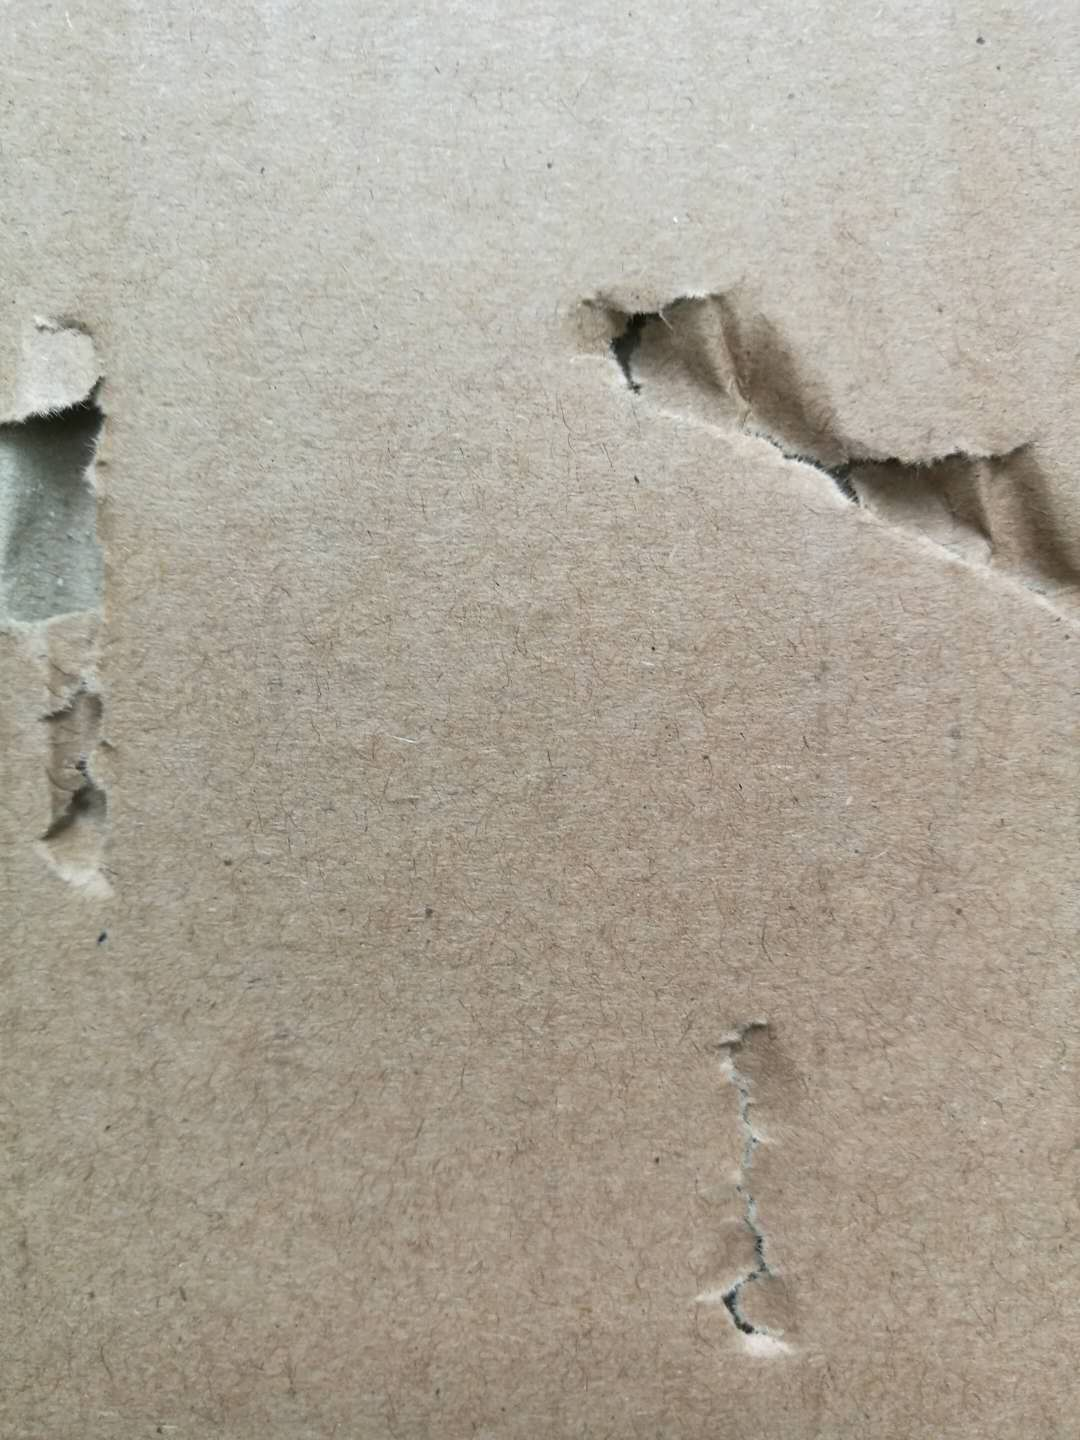defect: (537, 244, 1080, 672), (3, 278, 180, 942), (657, 982, 855, 1390)
